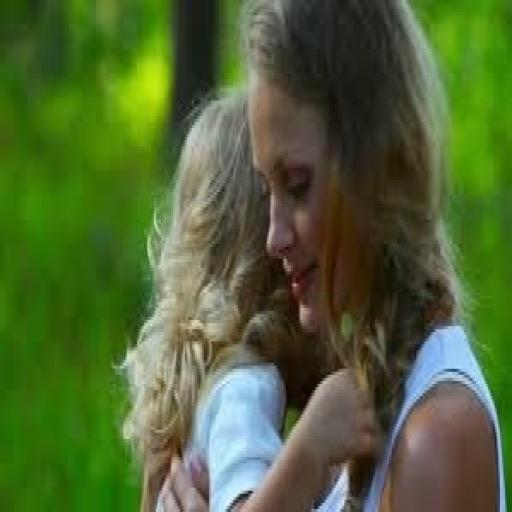hugging: (118, 0, 507, 509)
